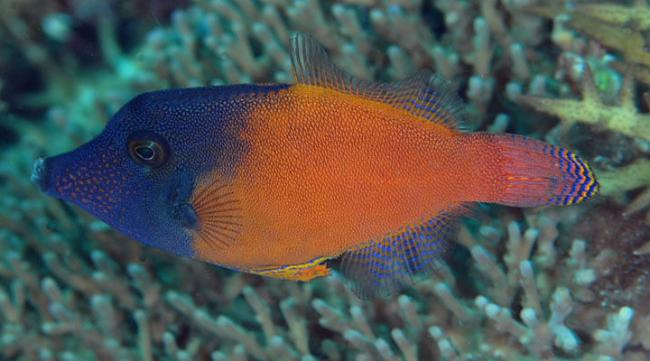fish: (31, 32, 601, 301)
